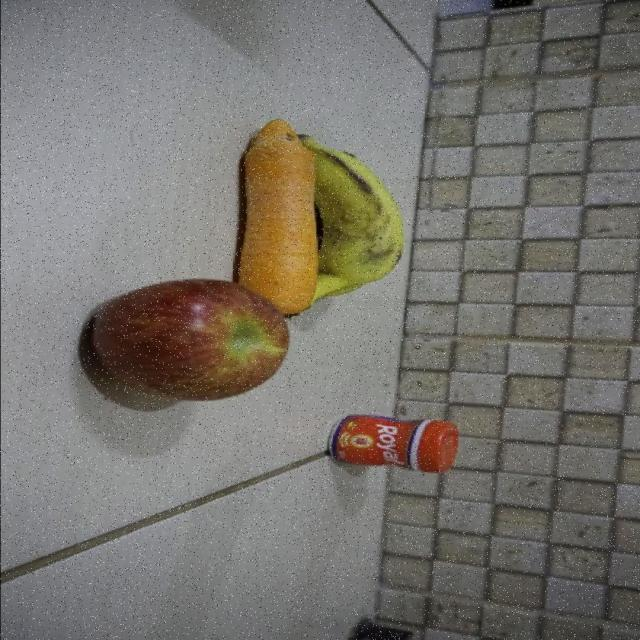Apple: (99, 281, 290, 406)
Banana: (320, 134, 410, 310)
Carrot: (234, 115, 317, 279)
Yeast: (329, 416, 463, 471)
